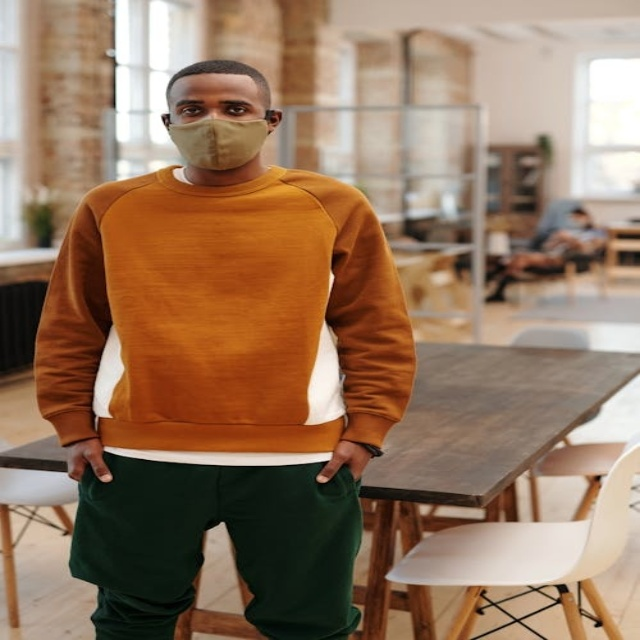Mascara: (167, 116, 270, 169)
Sin_gafas: (170, 90, 266, 117)
Sin_guantes: (312, 434, 381, 486), (55, 433, 119, 485)
